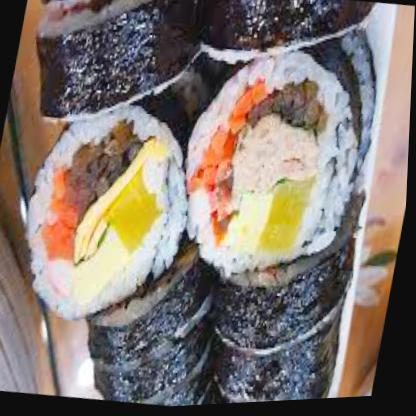rice: (165, 44, 409, 408), (2, 89, 222, 413)
